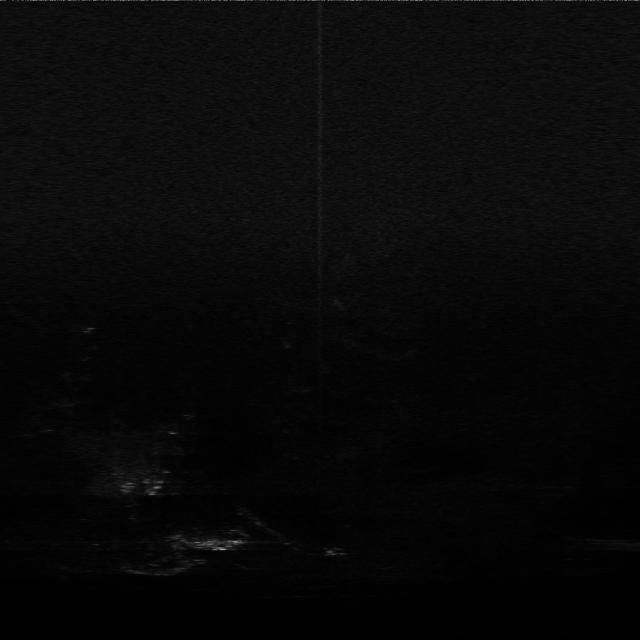rov: (193, 532, 249, 555)
